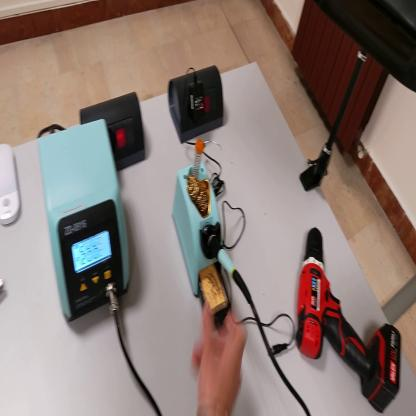electric screwdriver: (293, 216, 403, 412)
hand: (193, 302, 248, 414)
socket: (80, 90, 151, 171), (166, 65, 227, 145)
welder base: (174, 129, 226, 305)
welder probe tip: (206, 233, 251, 306)
welder station: (28, 120, 133, 329)
